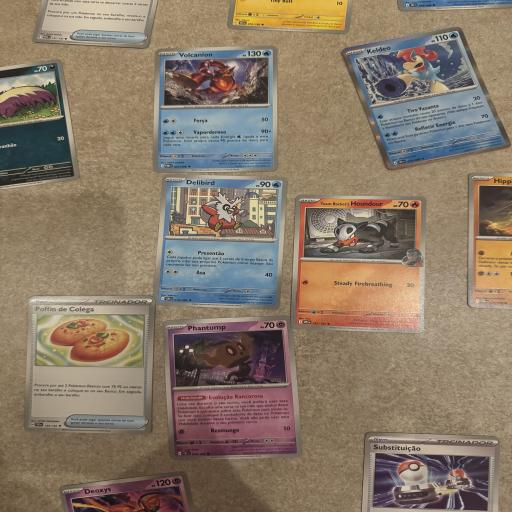card: (339, 3, 512, 193), (163, 314, 305, 463), (290, 191, 430, 334), (151, 172, 288, 310), (23, 293, 155, 434), (153, 44, 278, 173)
